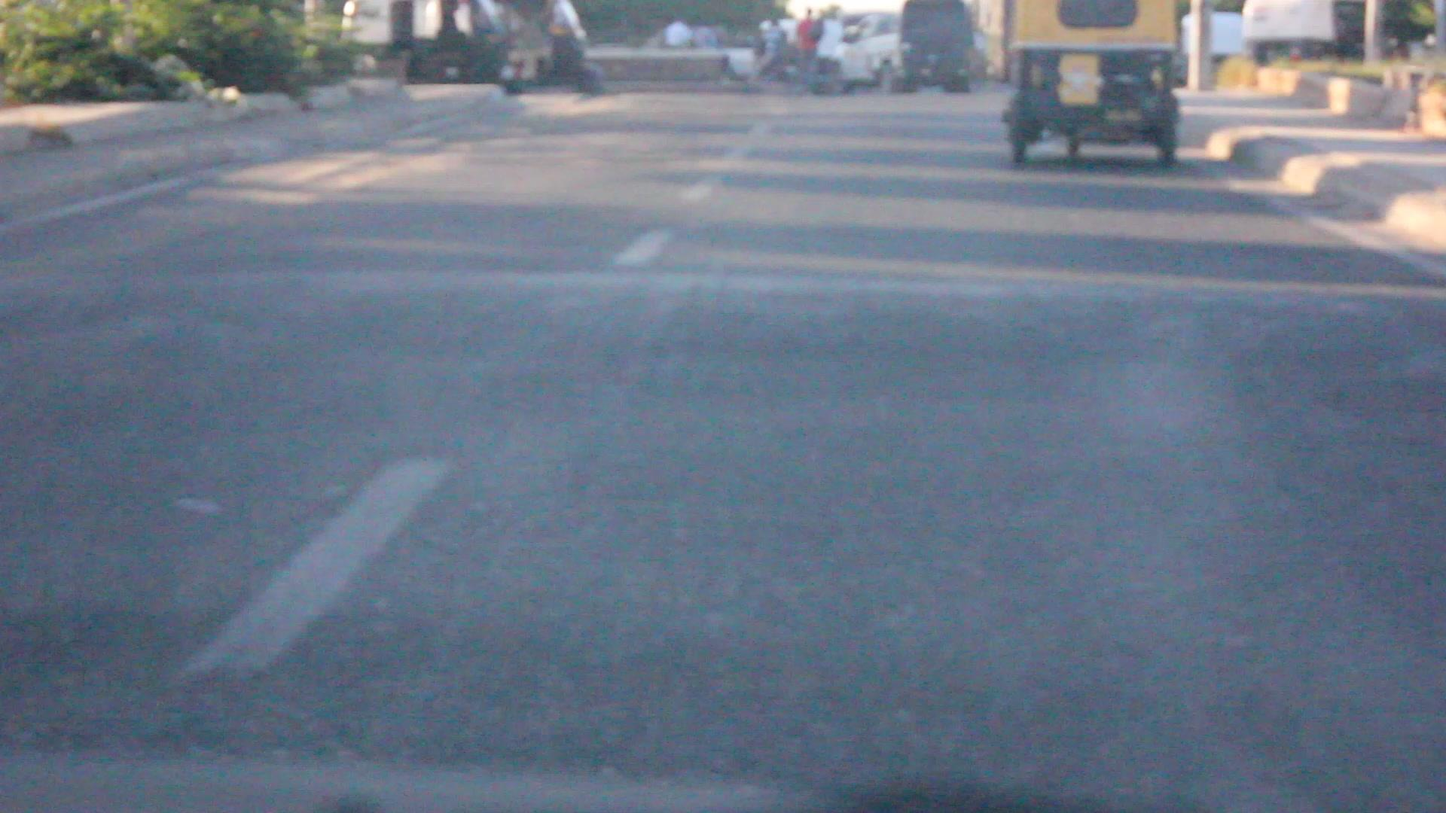Bump: (30, 279, 1442, 429)
